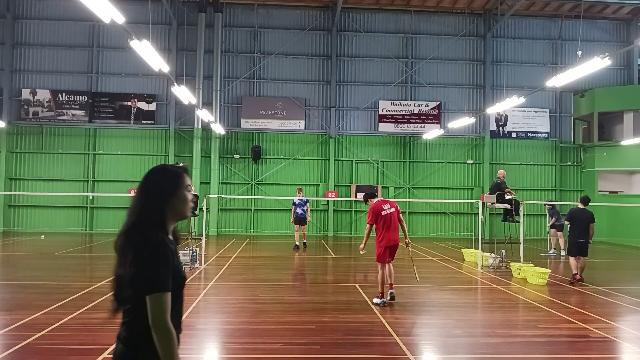Shuttlecock: (356, 248, 369, 256)
